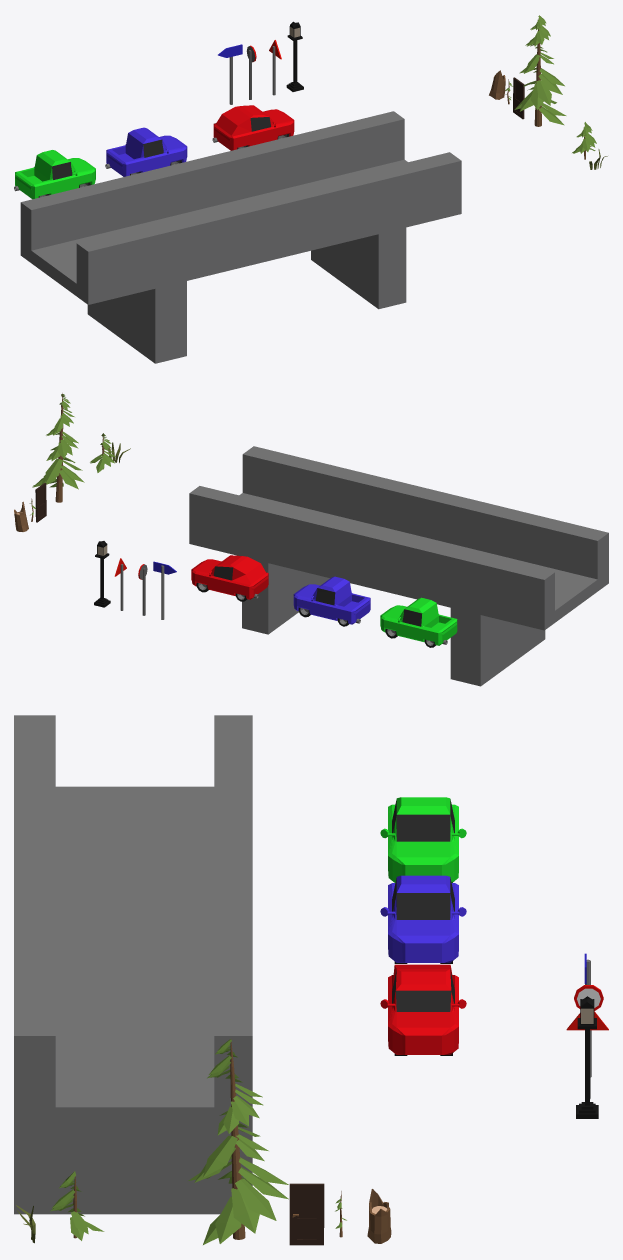
Rendered from Village_Assets_v2.fbx.
3 renders of one model, top to bottom at view 1: azimuth 30°, elevation 25°; view 2: azimuth 150°, elevation 25°; view 3: azimuth 270°, elevation 25°, orthographic. The views are drawn at different scales.
Visible parts, largest first — view 1: Village_Bridge_1, Village_Car_1, Village_Car_3_001, Village_Car_3, Village_SodHouse_Extra_Pine_Large_1, Village_Light_1; view 2: Village_Bridge_1, Village_Car_1, Village_Car_3, Village_Car_3_001, Village_SodHouse_Extra_Pine_Large_1, Village_Light_1, Village_SodHouse_Extra_Door_1; view 3: Village_Bridge_1, Village_SodHouse_Extra_Pine_Large_1, Village_Car_1, Village_Car_3_001, Village_Car_3, Village_SodHouse_Extra_Door_1, Village_Light_1, Village_SodHouse_Extra_Pine_Small_1, Village_SodHouse_Extra_Pine_treetrunk_1.
Part boxes in pixels (x1,y1,x2,y2): Village_Bridge_1: (20,111,461,363); Village_Car_1: (212,105,294,150); Village_Car_3_001: (105,127,187,176); Village_Car_3: (14,150,95,199); Village_SodHouse_Extra_Pine_Large_1: (514,15,566,126); Village_Light_1: (286,21,303,91); Village_Bridge_1: (189,446,608,686); Village_Car_1: (191,555,268,601); Village_Car_3: (380,597,457,647); Village_Car_3_001: (293,576,370,626); Village_SodHouse_Extra_Pine_Large_1: (32,393,84,502); Village_Light_1: (94,541,110,607); Village_SodHouse_Extra_Door_1: (35,483,46,522); Village_Bridge_1: (14,715,252,1214); Village_SodHouse_Extra_Pine_Large_1: (188,1039,288,1244); Village_Car_1: (380,964,466,1055); Village_Car_3_001: (380,875,466,963); Village_Car_3: (380,797,466,882); Village_SodHouse_Extra_Door_1: (289,1183,324,1245); Village_Light_1: (576,996,598,1118); Village_SodHouse_Extra_Pine_Small_1: (50,1171,104,1240); Village_SodHouse_Extra_Pine_treetrunk_1: (367,1189,391,1243).
Bounding box in the file's own units: 3232 × 1125 × 1760.
